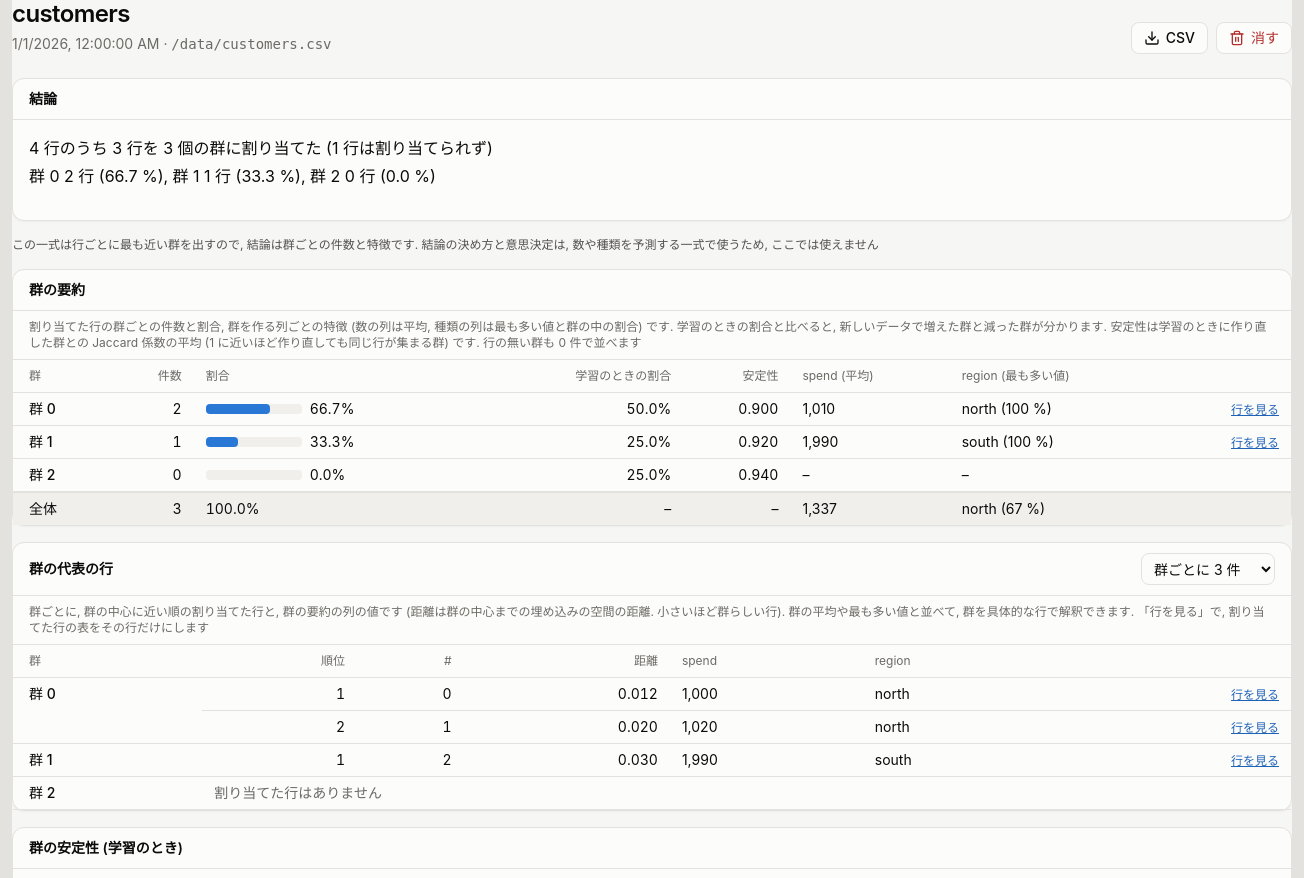
Test: 群分けの結果の画面 › 群の代表の行を群の要約と並べ, 件数を変え, 行を見るで 1 行に絞る
Later steps or results of the test are not shown.
Expected: the row "群 0 1 0 0.012 1,000 north 行を見る" is shown, [13, 678, 1291, 710]
Expected: the row "2 1 0.020 1,020 north 行を見る" is shown, [13, 710, 1291, 744]
件数を変えると API で求める
Select "群ごとに 1 件" in the dropdown named "代表の行の件数" at point(1208, 569), box [1141, 553, 1275, 585]
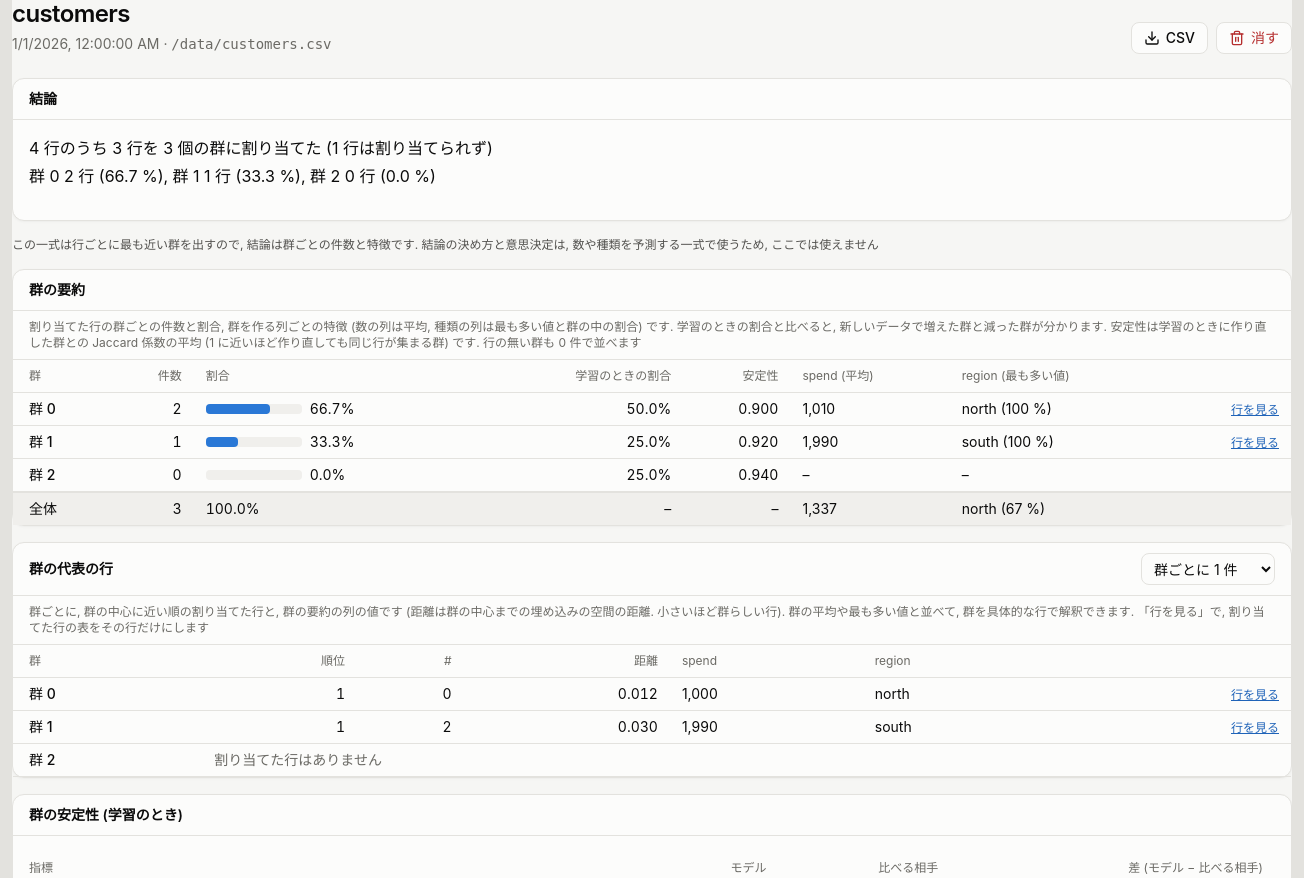
行を見るで, 割り当てた行の表をその行だけにし, 群で絞る欄もその群にする
Click the button with aria-label "行を見る (群 1 の代表の行 #2)" at point(1255, 728), box [1231, 720, 1279, 736]
(page scrolled)
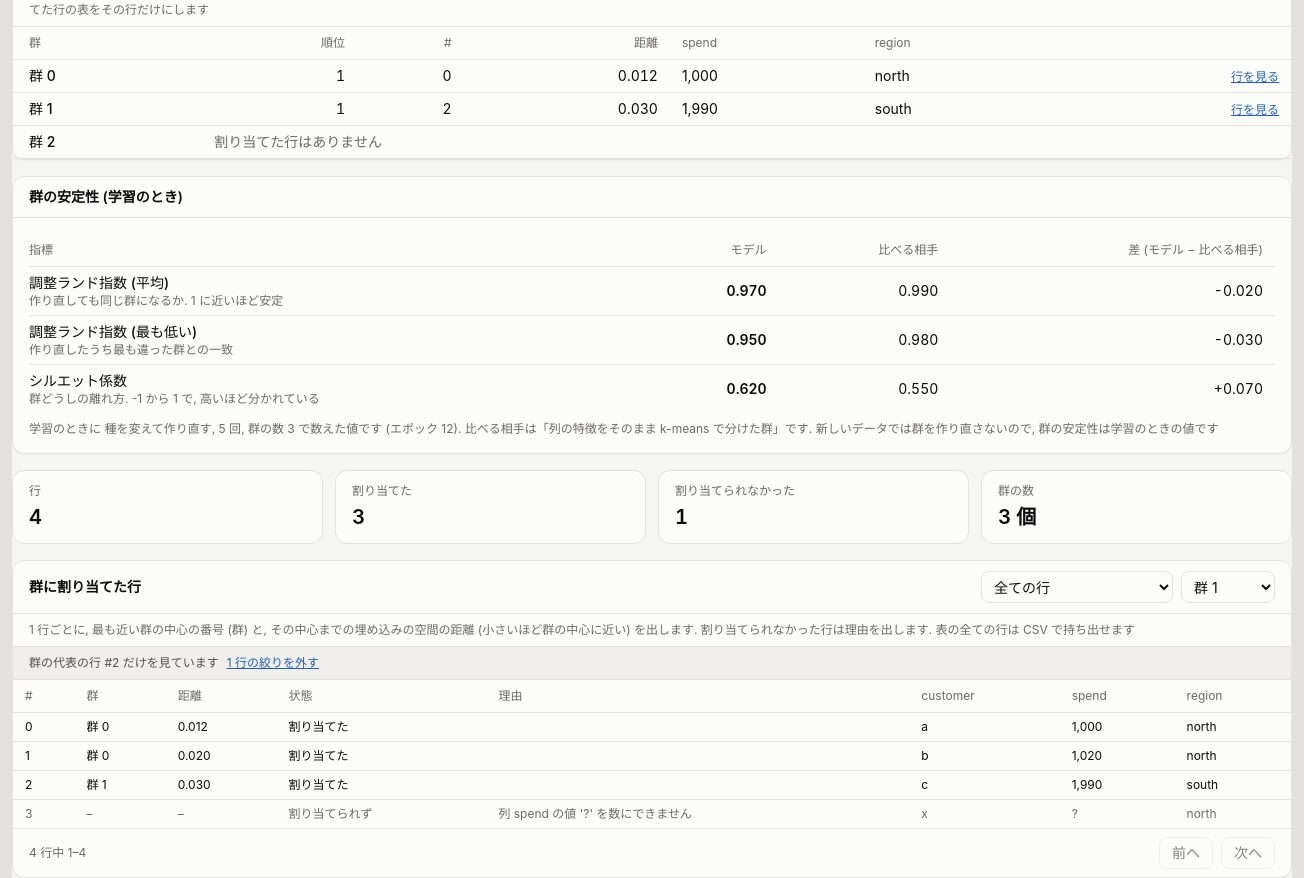
Now the 2nd dropdown named "群で絞る" shows "群 1", box [1181, 571, 1275, 603]
Now the text "群の代表の行 #2 だけを見ています 1 行の絞りを外す" is shown, box [13, 647, 1291, 680]
Click the button "1 行の絞りを外す" at point(273, 663), box [227, 655, 319, 671]
(page scrolled)
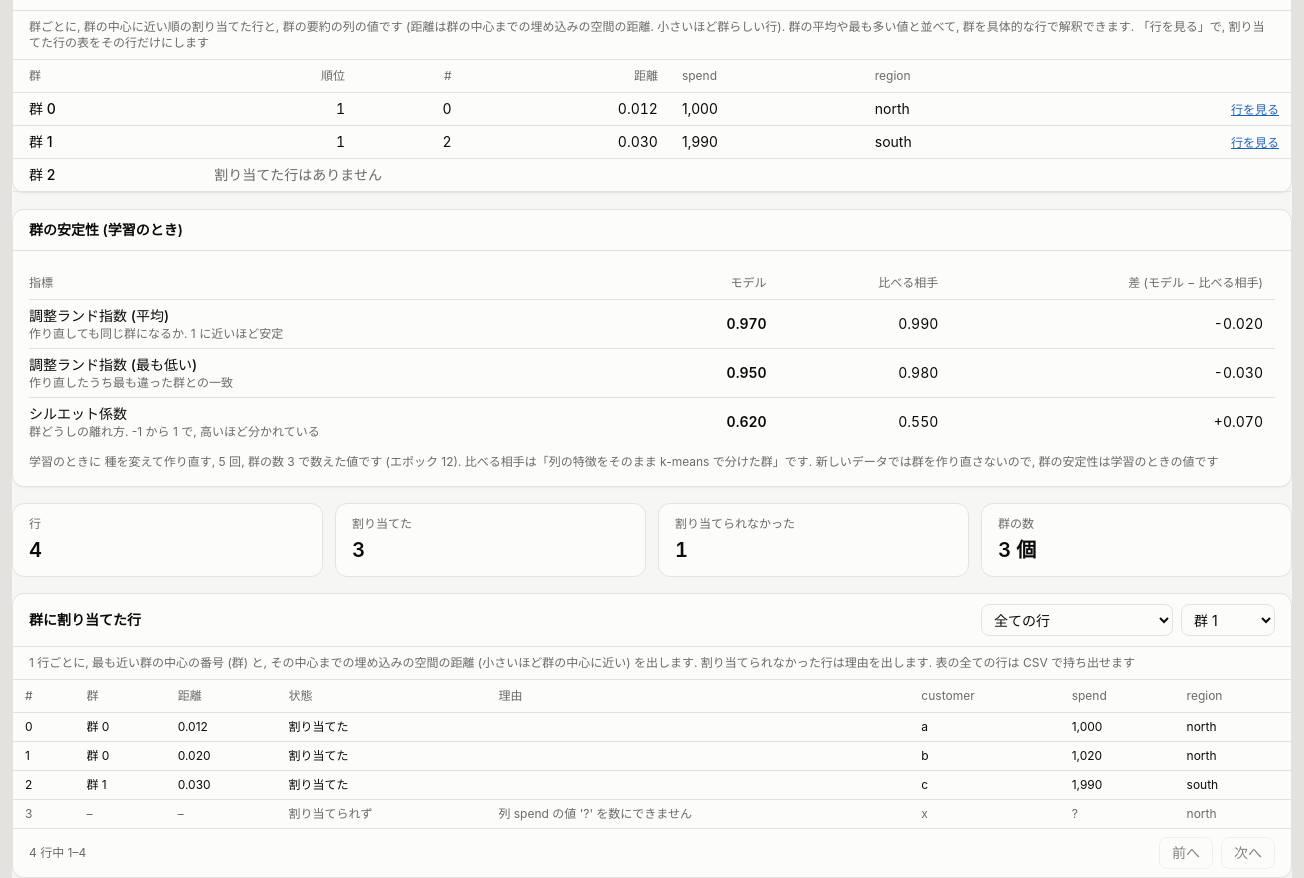
Now the text "だけを見ています" is gone
